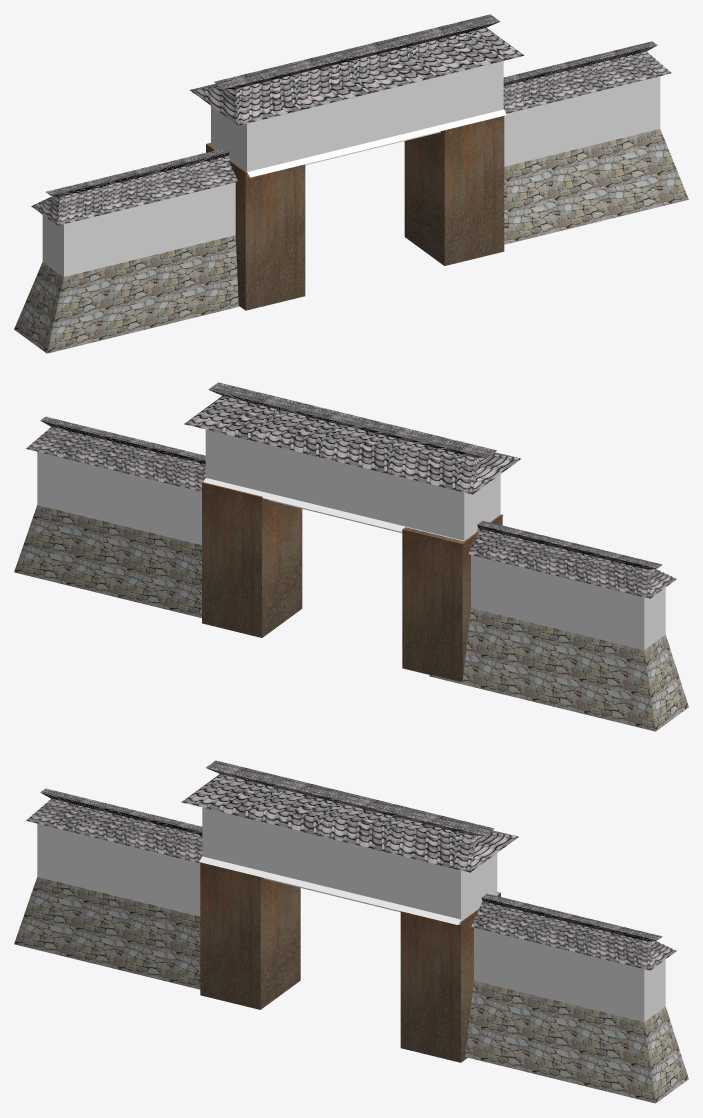
The model's file is wall--.fbx.
The picture shows the model from 3 angles, top to bottom: view 1: azimuth 30°, elevation 25°; view 2: azimuth 150°, elevation 25°; view 3: azimuth 330°, elevation 25°; orthographic projection.
Parts seen in each view (by area): view 1: Boxda (×10); view 2: Boxda (×10); view 3: Boxda (×10).
Boxes of the visible parts, x1=… form: Boxda (×10): x1=14, y1=14, x2=688, y2=353; Boxda (×10): x1=14, y1=382, x2=688, y2=731; Boxda (×10): x1=14, y1=760, x2=688, y2=1103.
Bounding box in the file's own units: 2633 × 347 × 856.
Materials: 4 (4 with a texture image).
